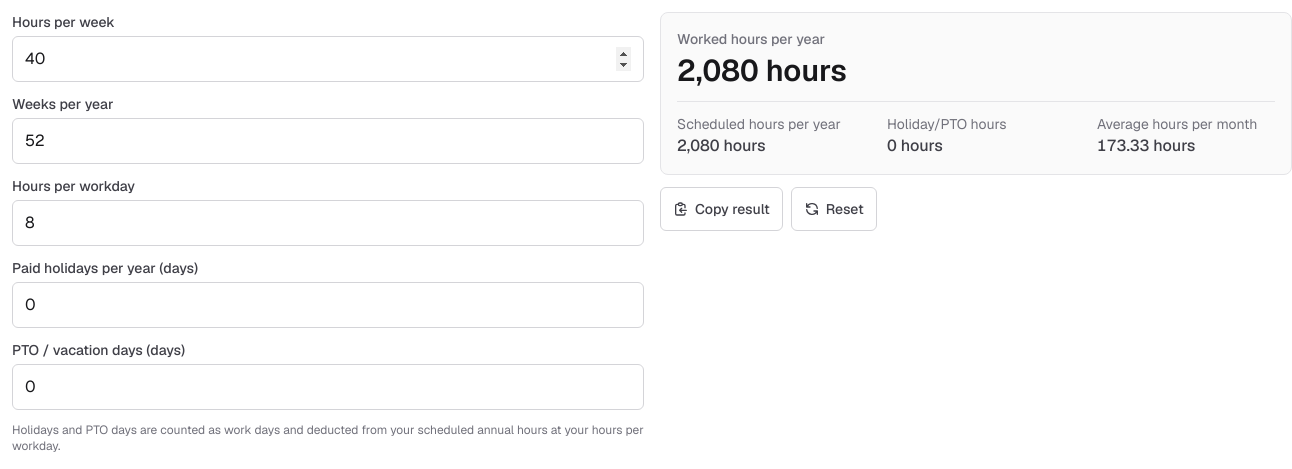
WorkHoursInYearCalculator › deducts PTO days from scheduled hours
Type "15" into the number field labelled "PTO / vacation days (days)" at x=328, y=387, box [12,364,644,410]
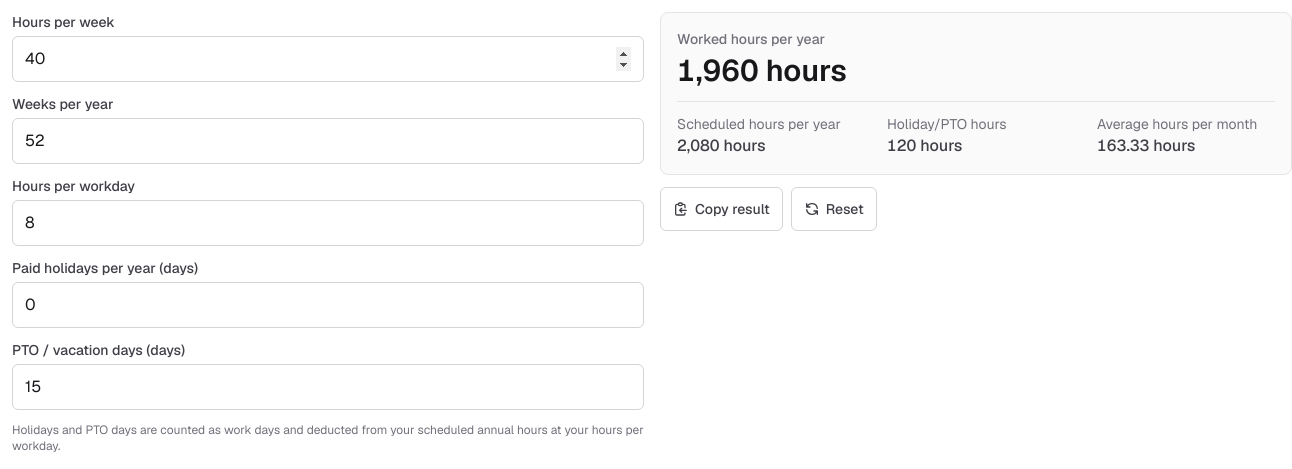
Expected: the text "1,960 hours" is shown, [677,51,847,90]
Expected: the text "120 hours" is shown, [887,135,962,156]
